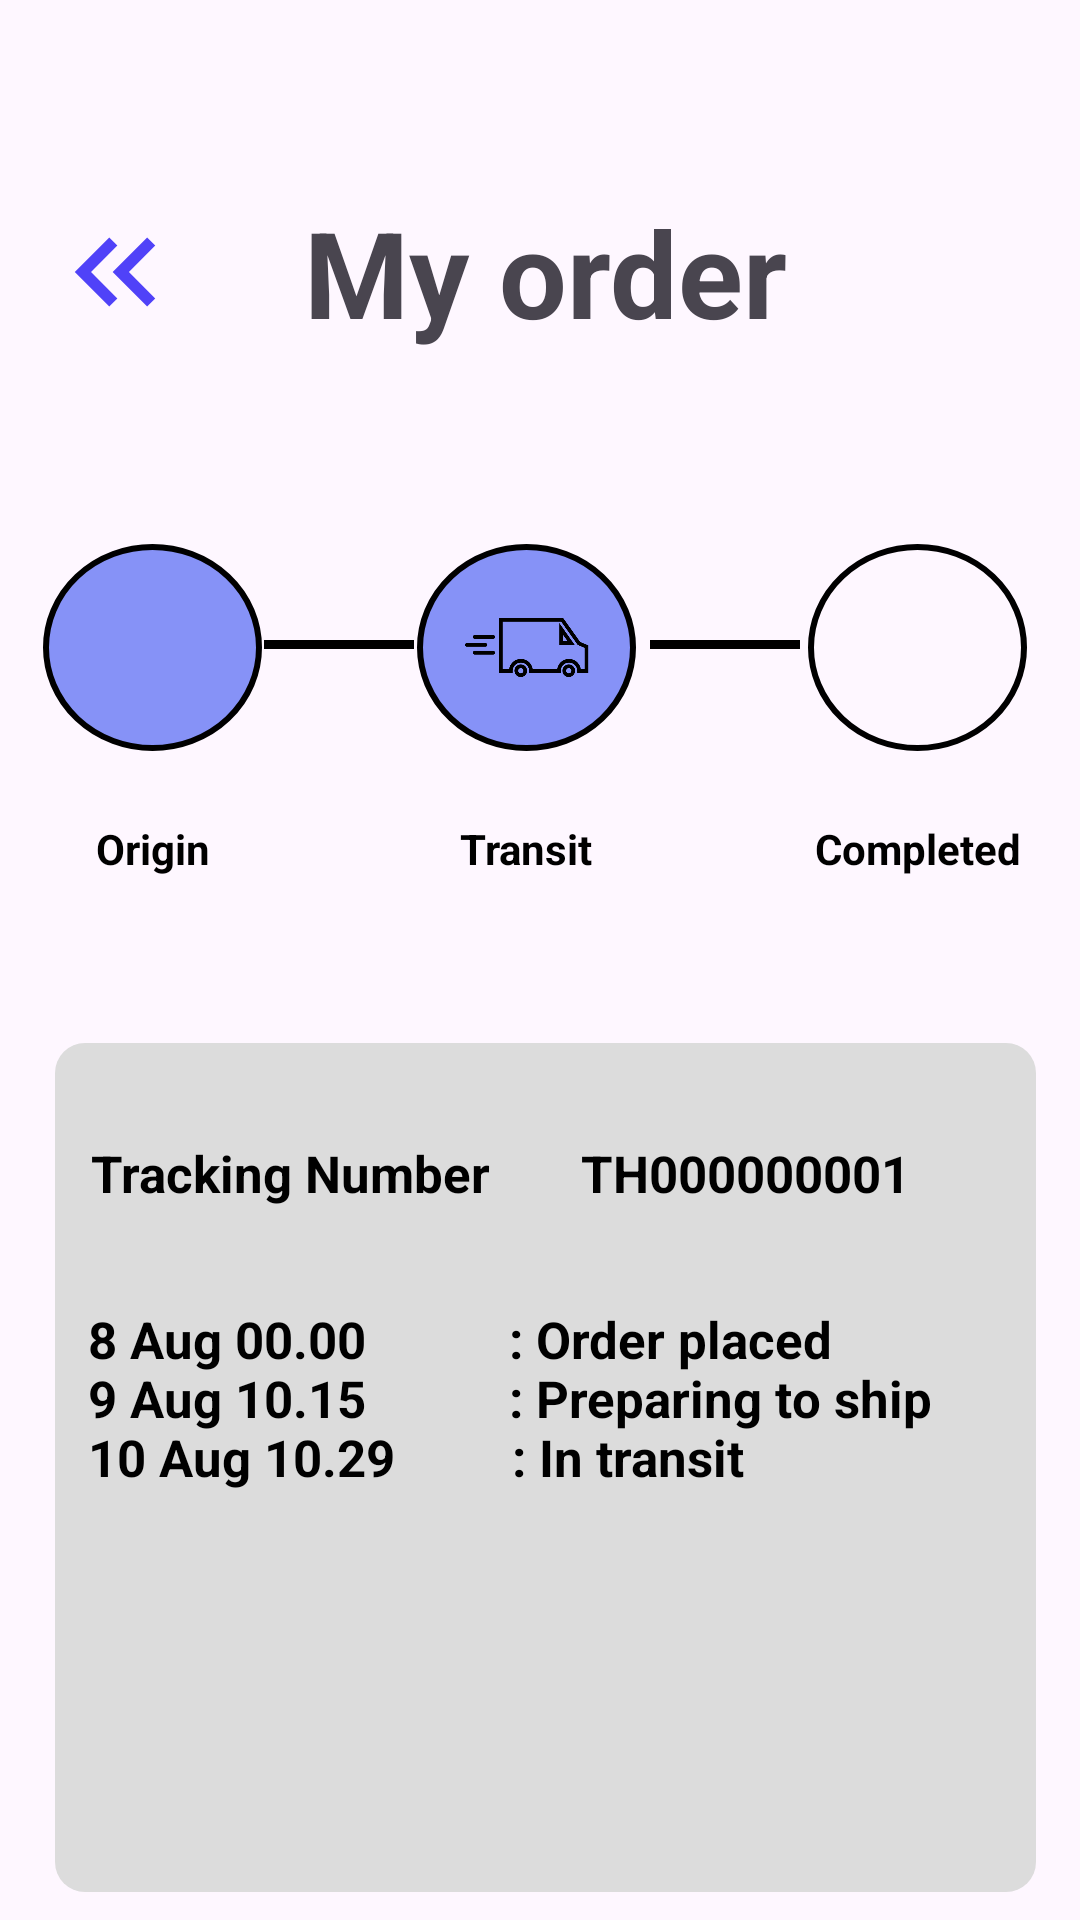

Icons on this 1080w x 1920h Android screen, each with its box as (x1, y1, x2, y2):
return left: (75, 237, 155, 307)
transport: (417, 544, 636, 751)
